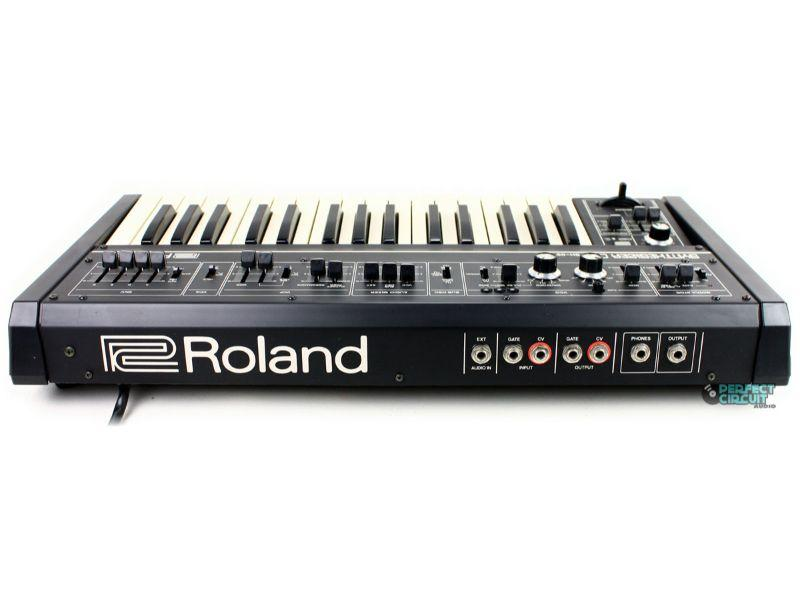synthesizer: (4, 171, 789, 416)
